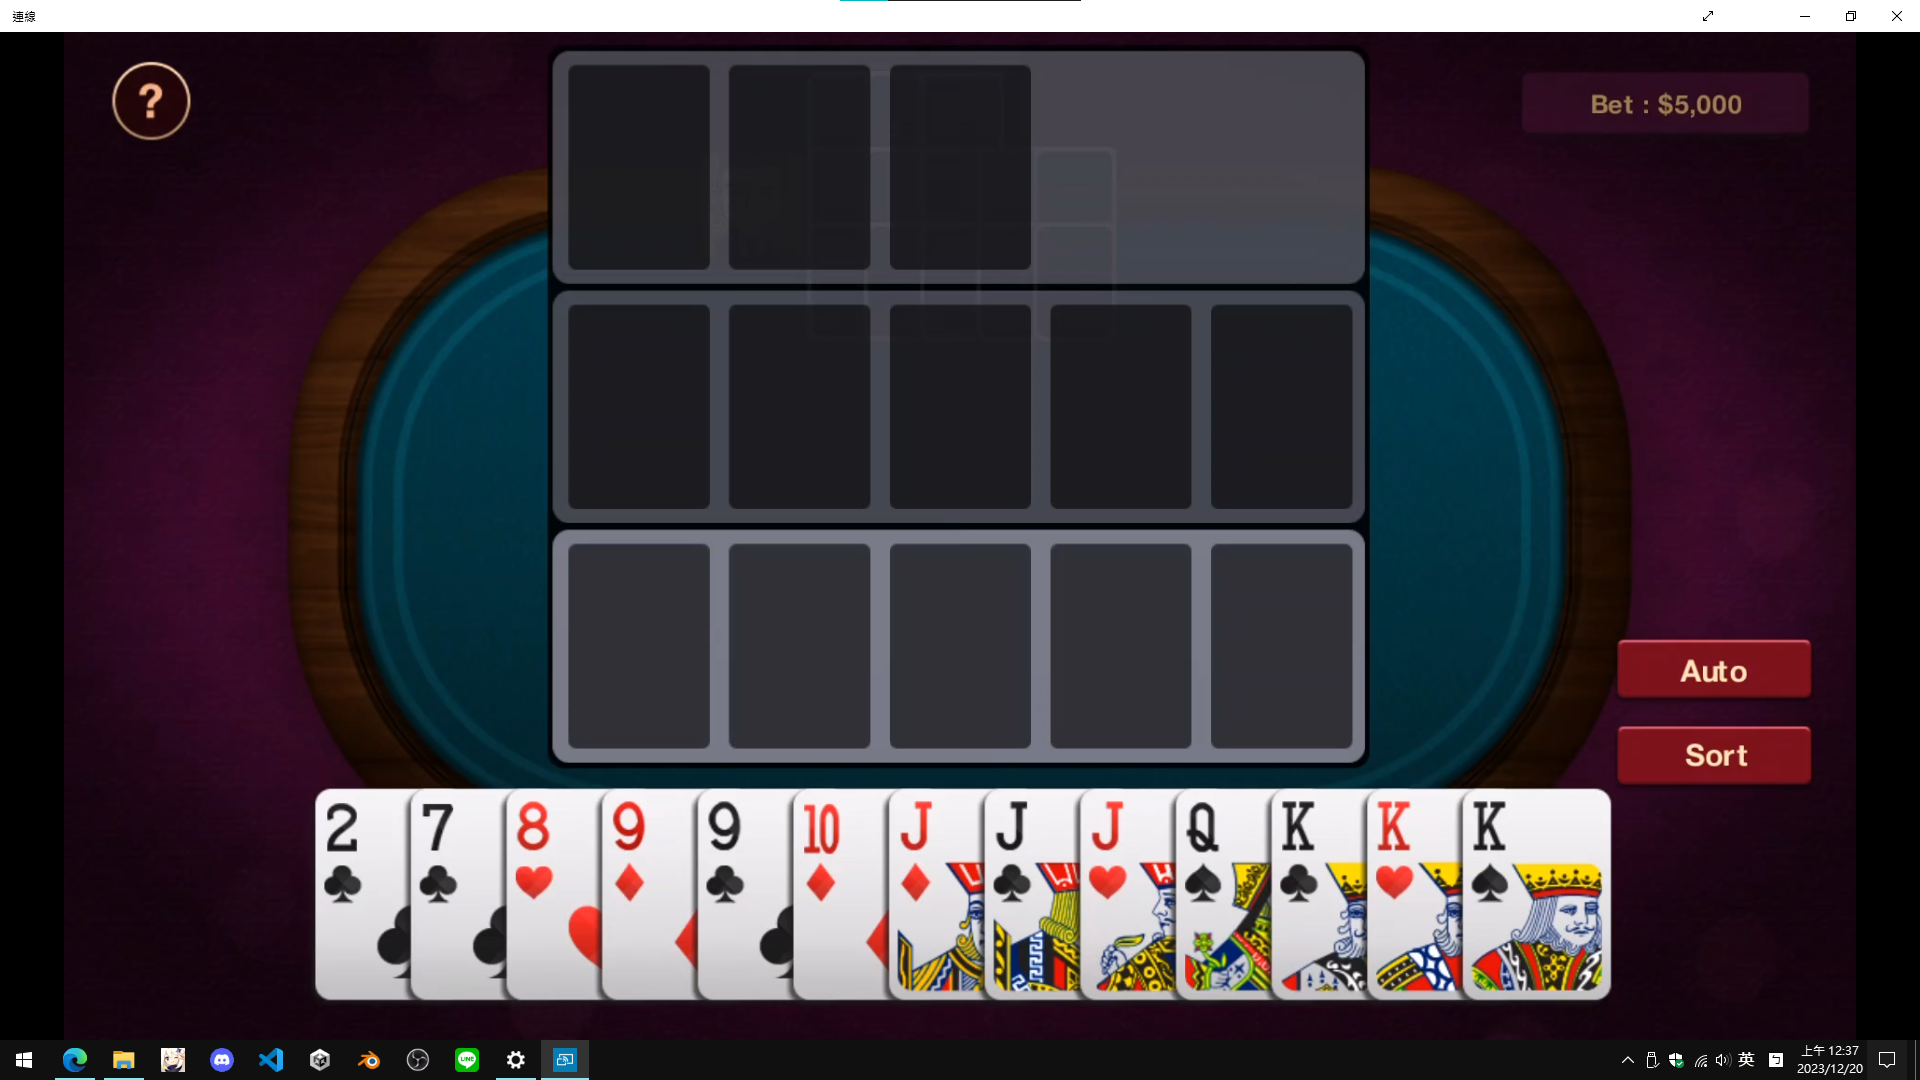10D: (796, 798, 848, 914)
2C: (319, 799, 368, 914)
7C: (417, 795, 460, 915)
8H: (510, 798, 559, 910)
9C: (705, 795, 746, 914)
9D: (607, 799, 650, 906)
JC: (988, 798, 1036, 911)
JD: (897, 798, 940, 911)
JH: (1087, 798, 1130, 907)
KC: (1278, 798, 1321, 907)
KH: (1373, 795, 1416, 903)
KS: (1466, 795, 1514, 910)
QS: (1183, 799, 1226, 910)
